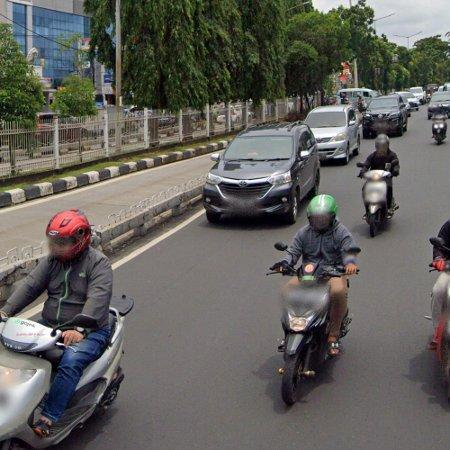motorcycles: (0, 297, 133, 450), (280, 263, 345, 406), (363, 170, 392, 237)
